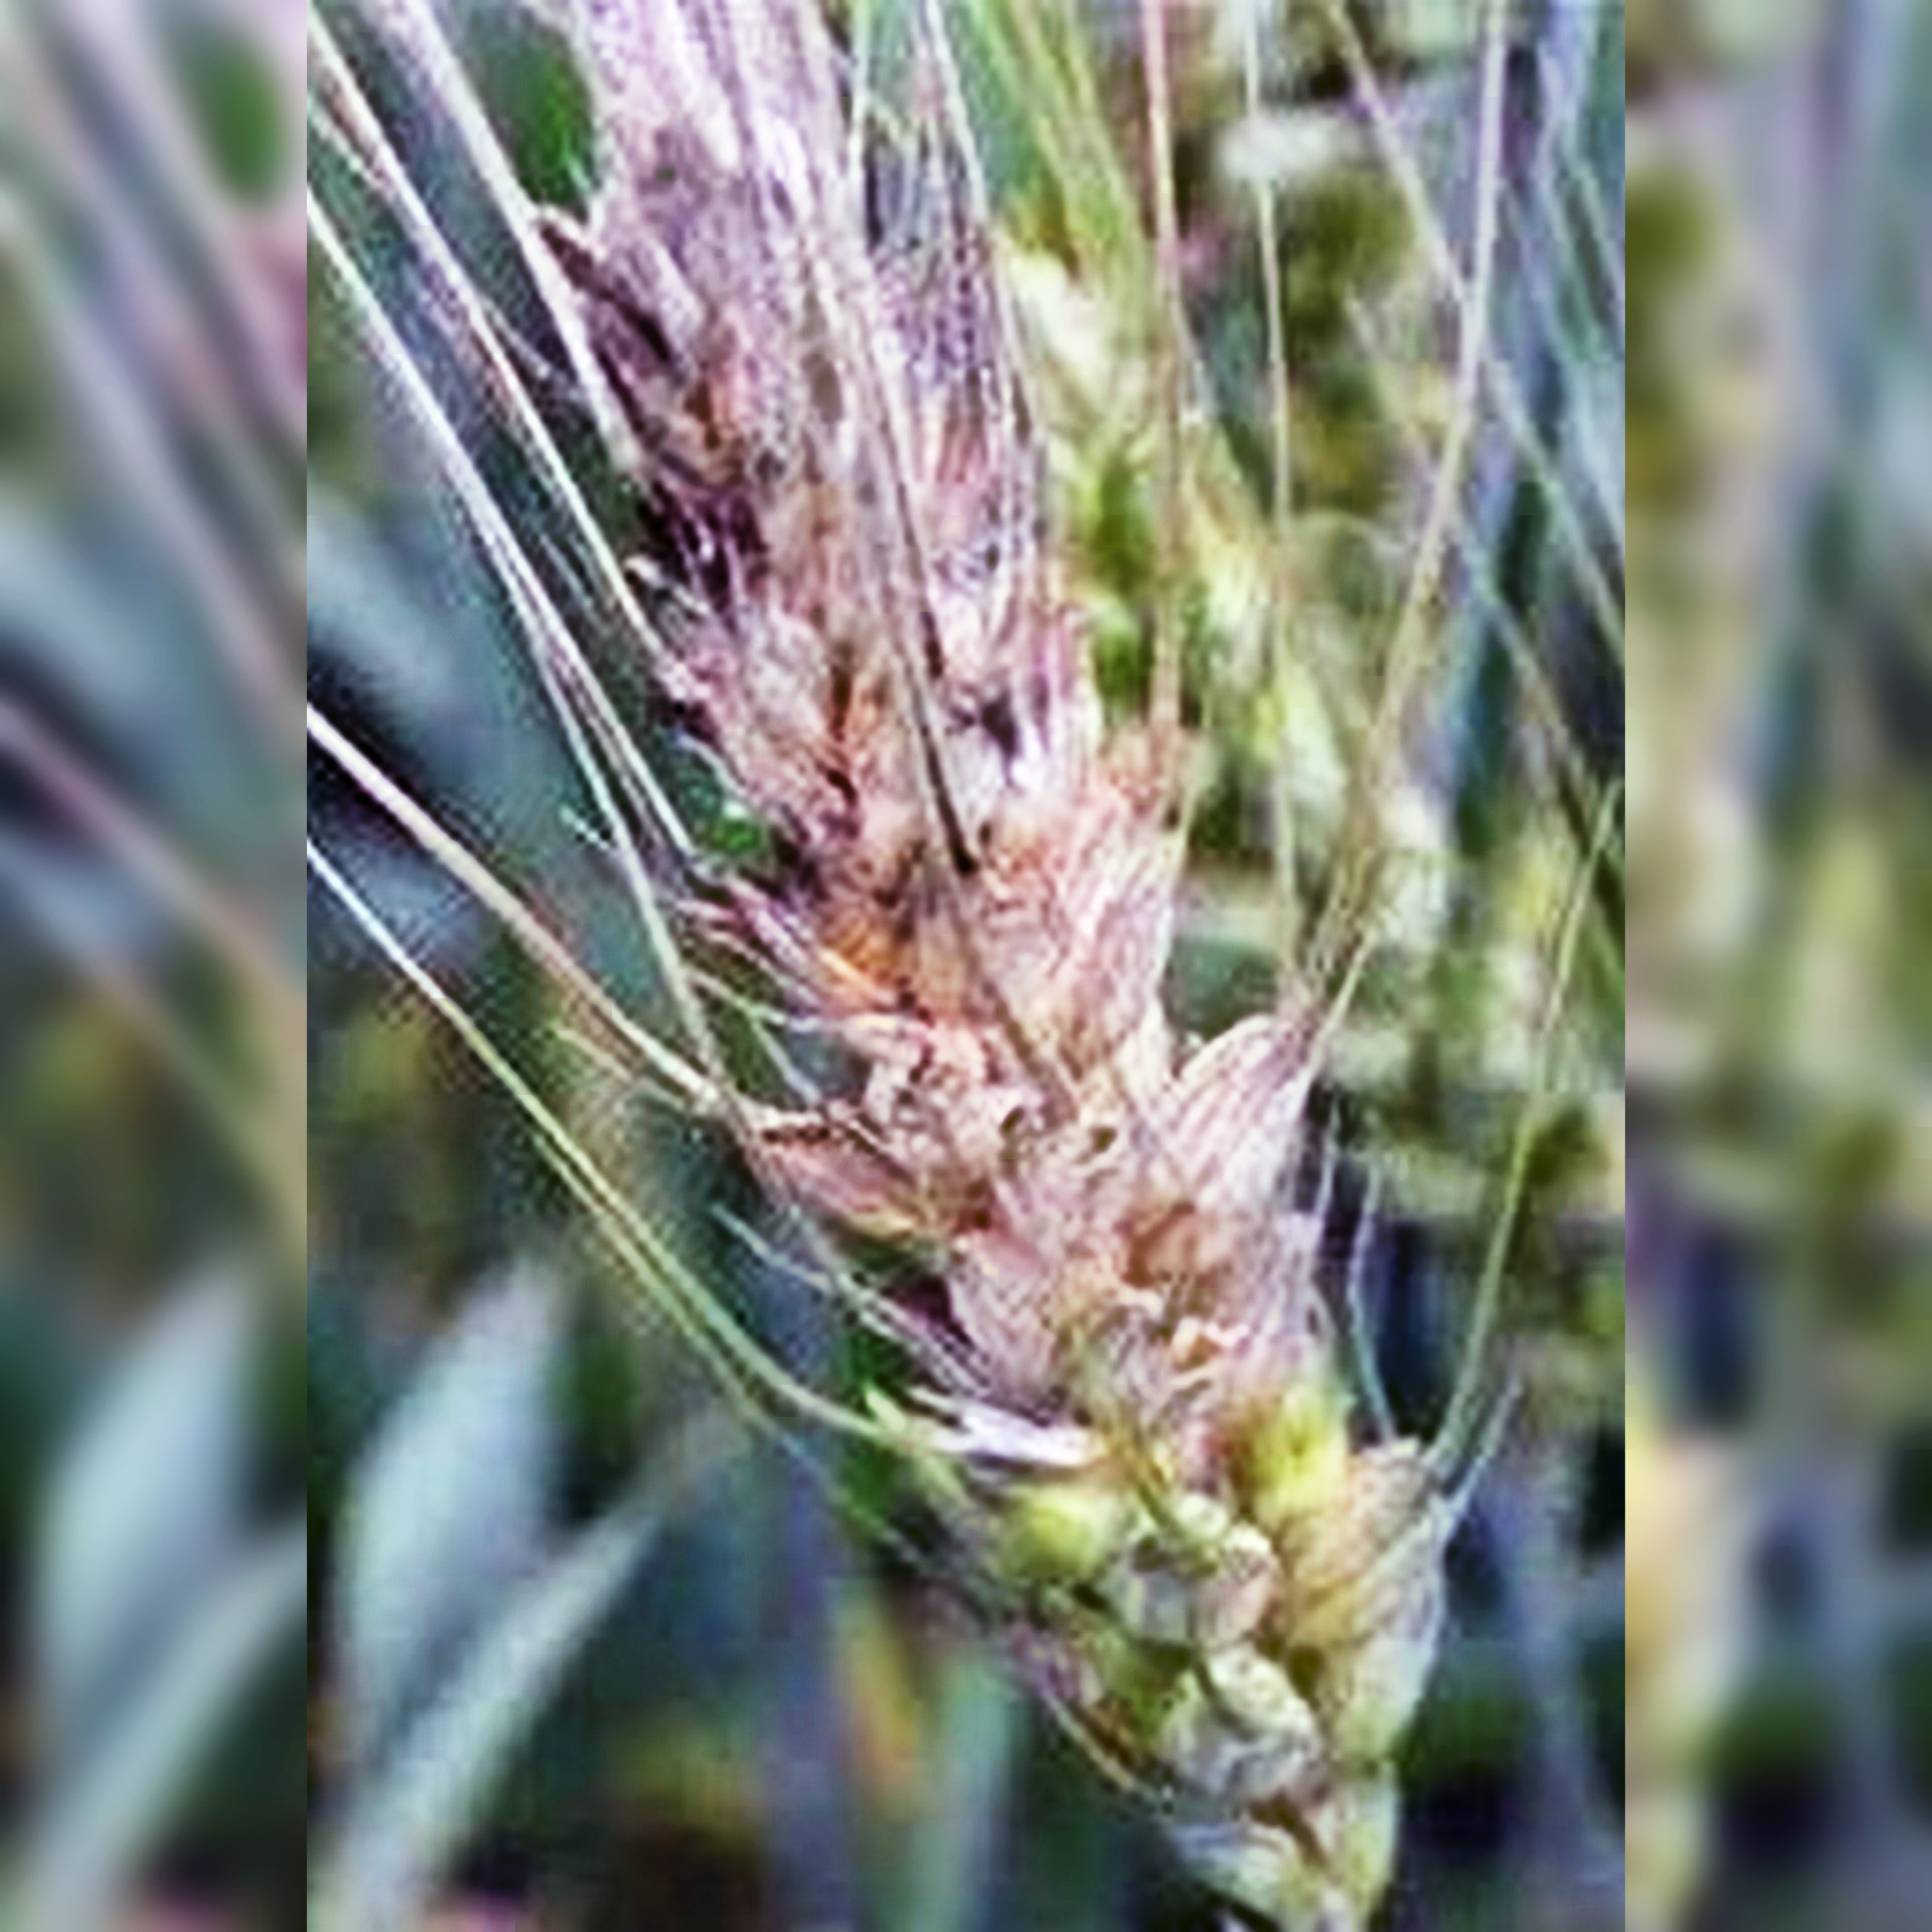Wheat scab: (566, 120, 1507, 1872)
